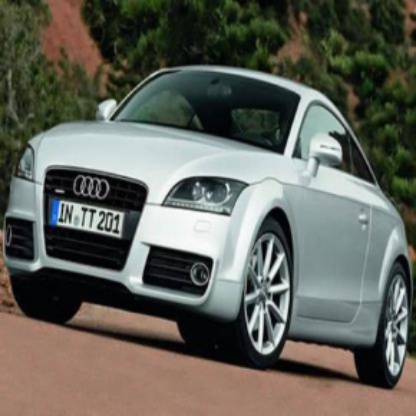Vehicle: (2, 62, 415, 394)
